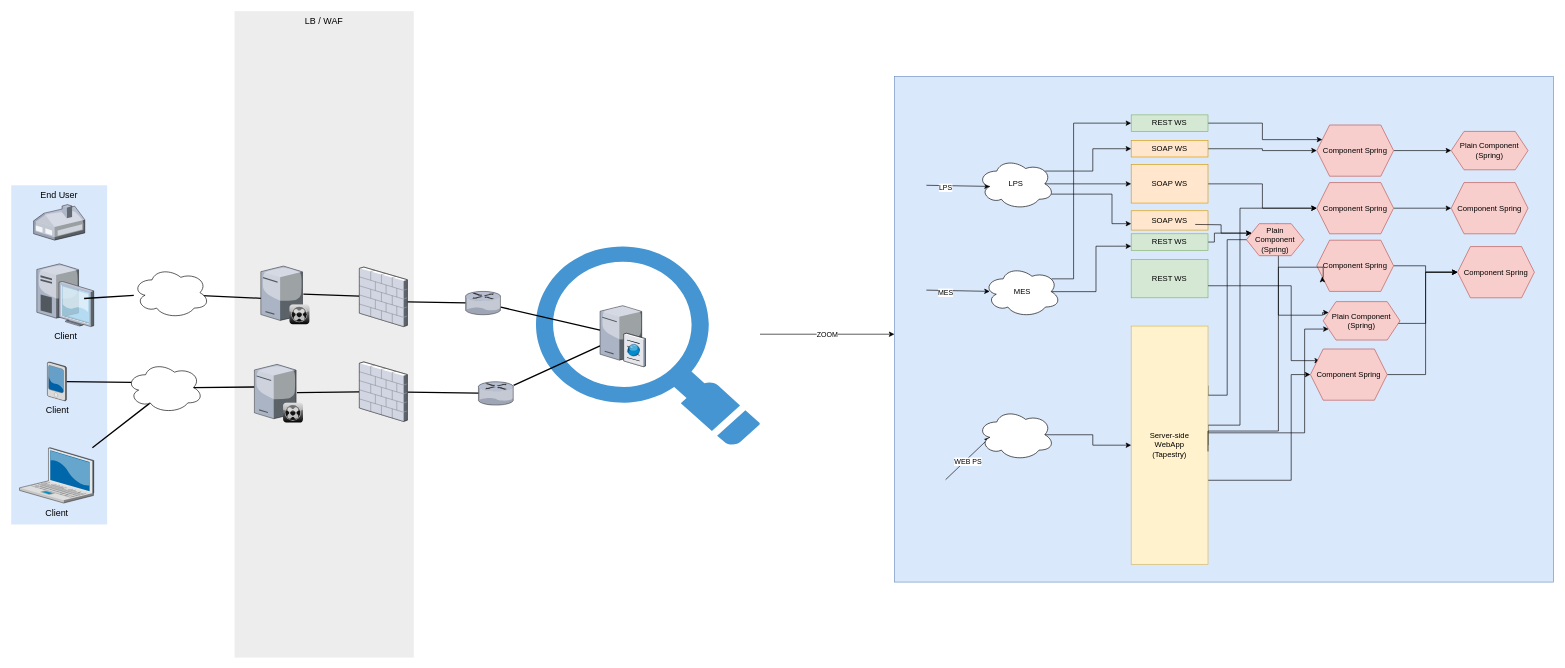
Some shapes in this 1565 by 668 pixel diagram are drawn without their labels. The shapes that lost their labels are listed below. From the top down, each one's centre as x and y in pixels, then its label:
At (x=171, y=292): "https:// LPS".
At (x=622, y=335): "WebApp + EJB (JEE Server)".
At (x=164, y=387): "https:// web ps".
At (x=1015, y=434): "WEBPS".
